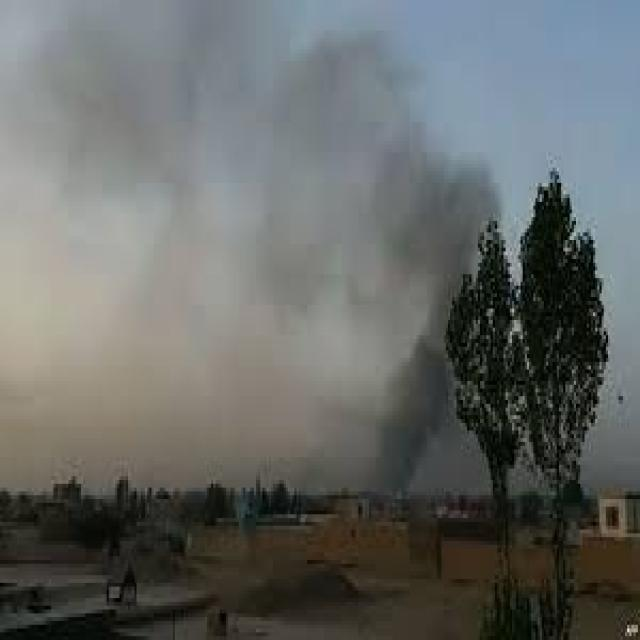Smoke: (0, 0, 503, 472)
